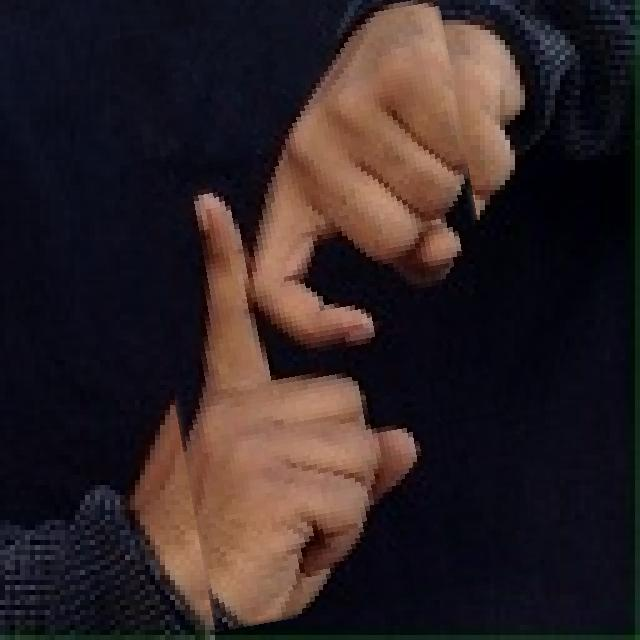K: (136, 0, 515, 620)
